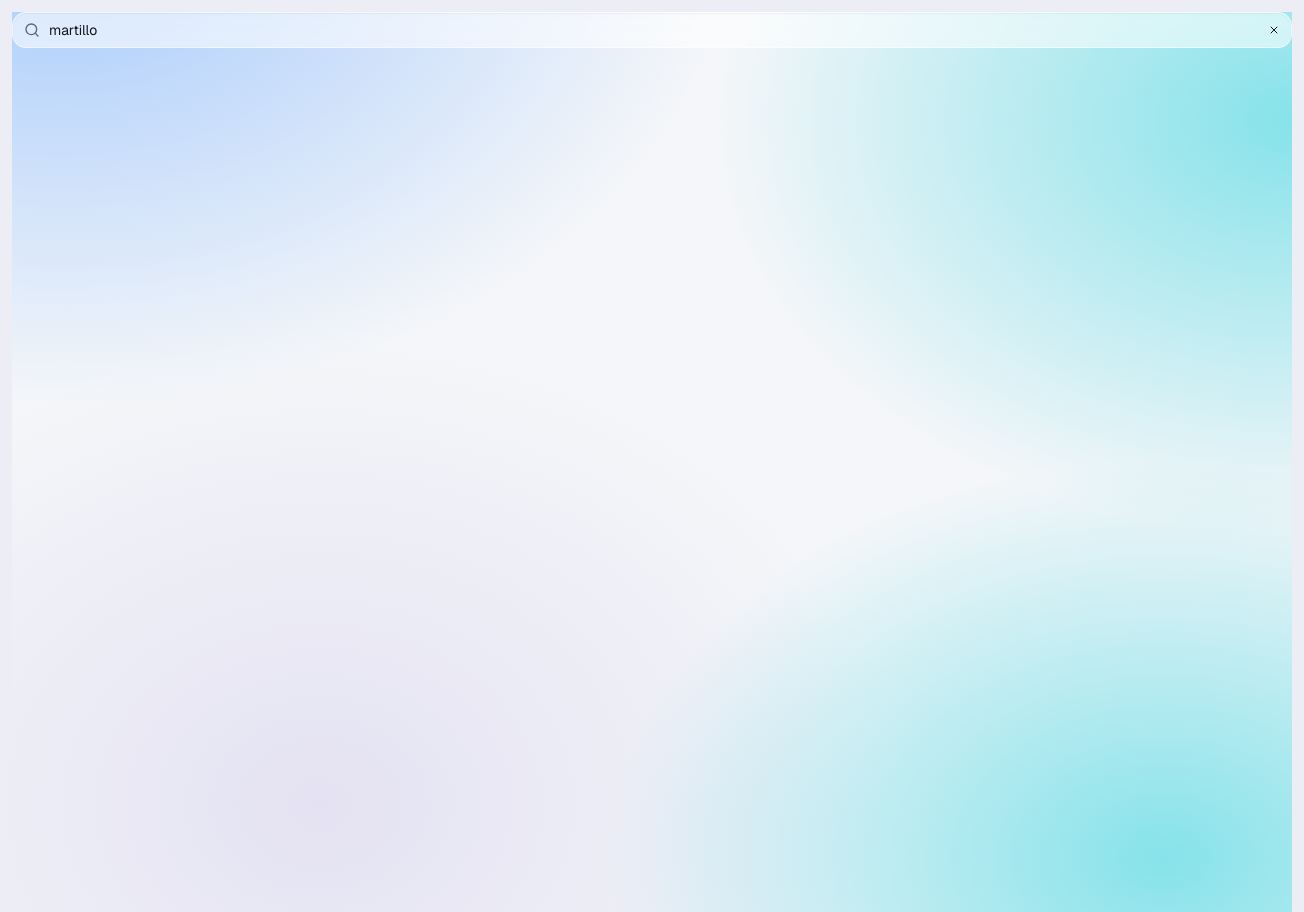
Test case: SearchInput › ofrece un boton accesible para limpiar la busqueda
Click the button named "Limpiar busqueda" at (1274, 30), box [1262,18,1286,42]
Wait 400 ms
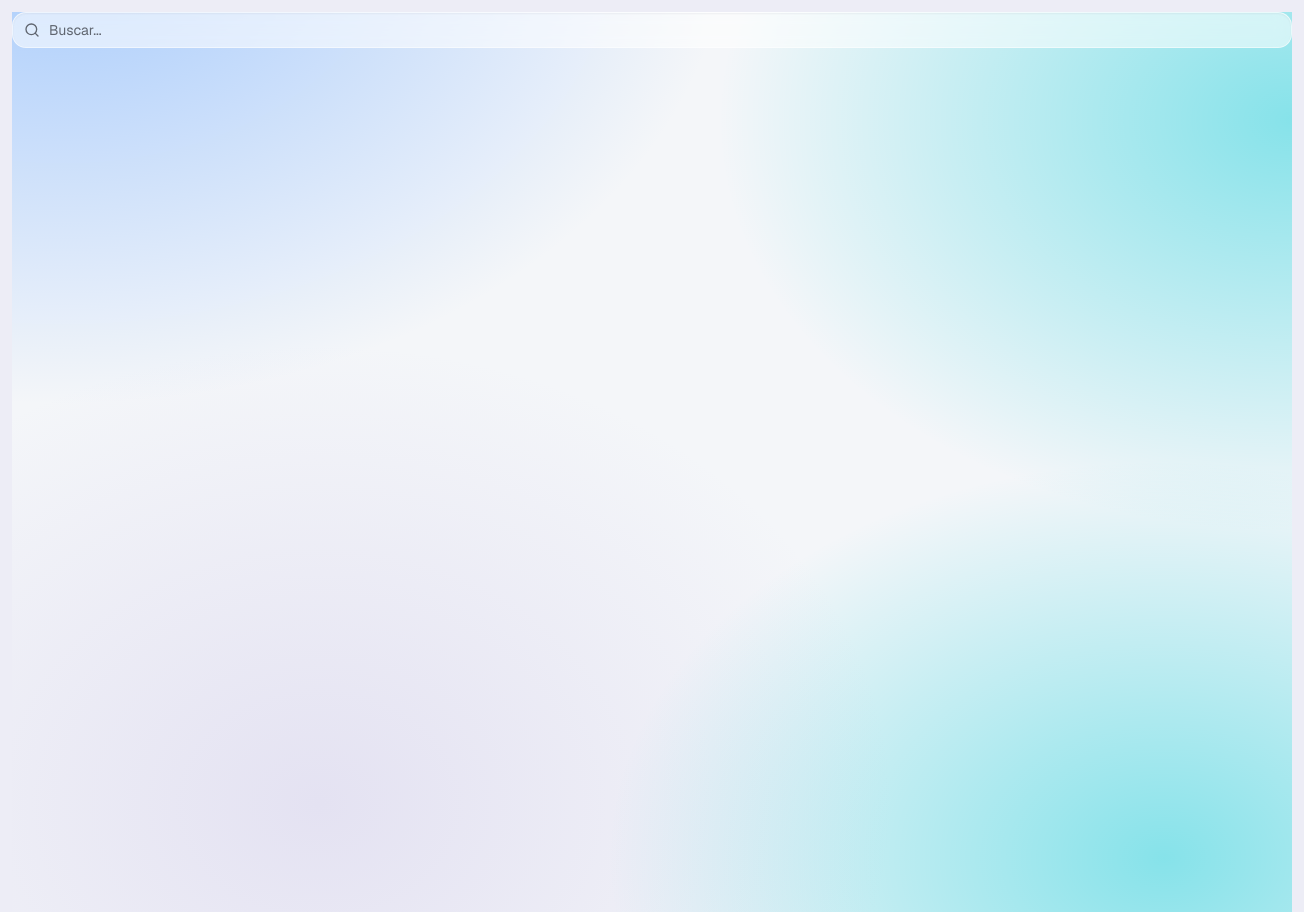
Now the search field is empty, box [12,12,1292,48]
